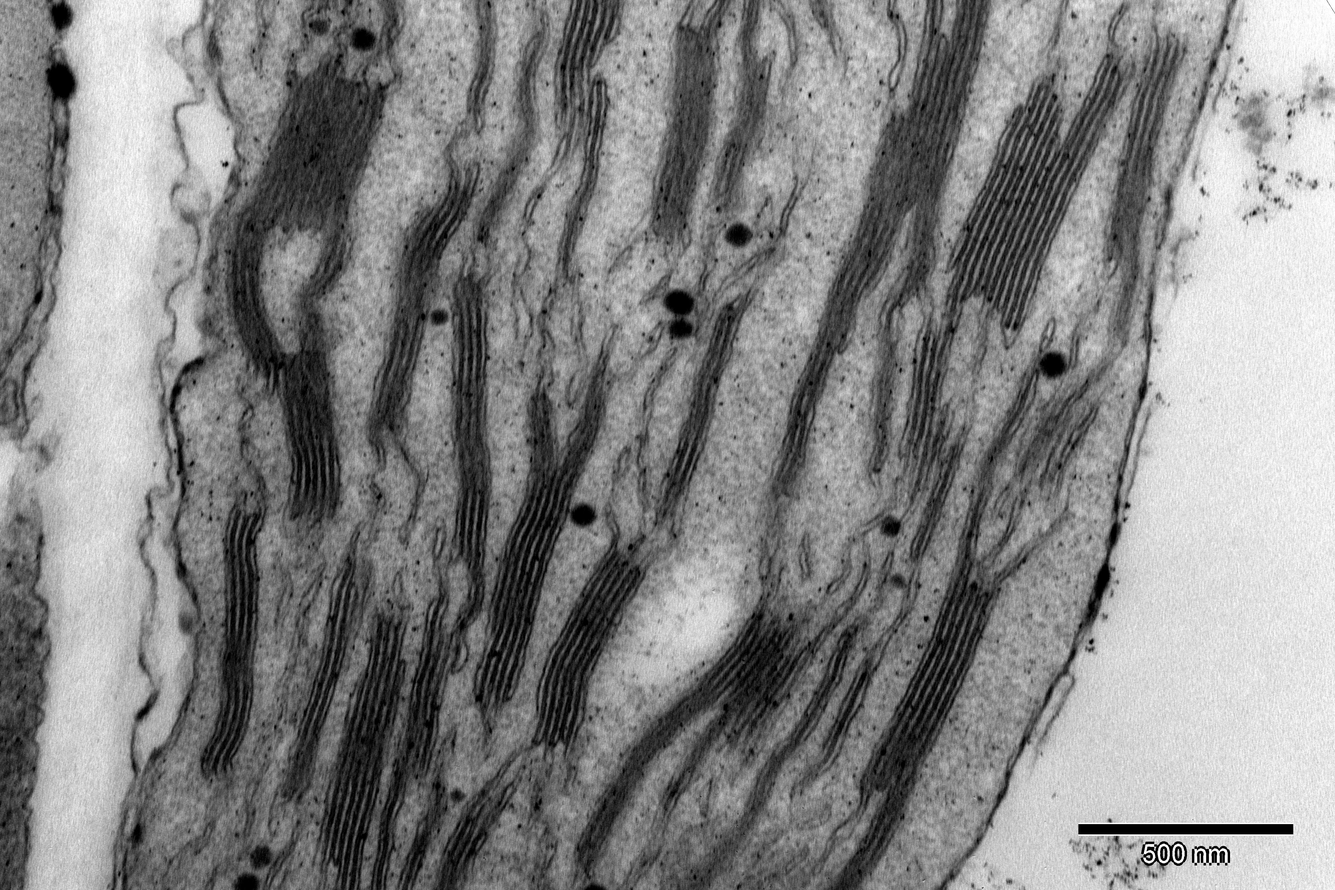granum: (759, 0, 995, 503), (569, 590, 826, 882), (217, 41, 382, 370), (941, 58, 1135, 335), (468, 364, 611, 710), (856, 550, 1002, 804), (365, 159, 483, 438), (313, 607, 414, 890), (523, 539, 650, 750), (271, 551, 375, 806), (648, 302, 748, 543), (1099, 23, 1192, 271), (633, 18, 724, 256), (194, 500, 270, 783), (260, 312, 344, 526), (702, 0, 778, 218), (444, 271, 496, 572), (390, 624, 471, 779), (895, 311, 961, 499), (427, 786, 509, 890), (816, 800, 909, 890), (1012, 393, 1075, 487), (552, 0, 628, 70), (551, 67, 612, 154)
